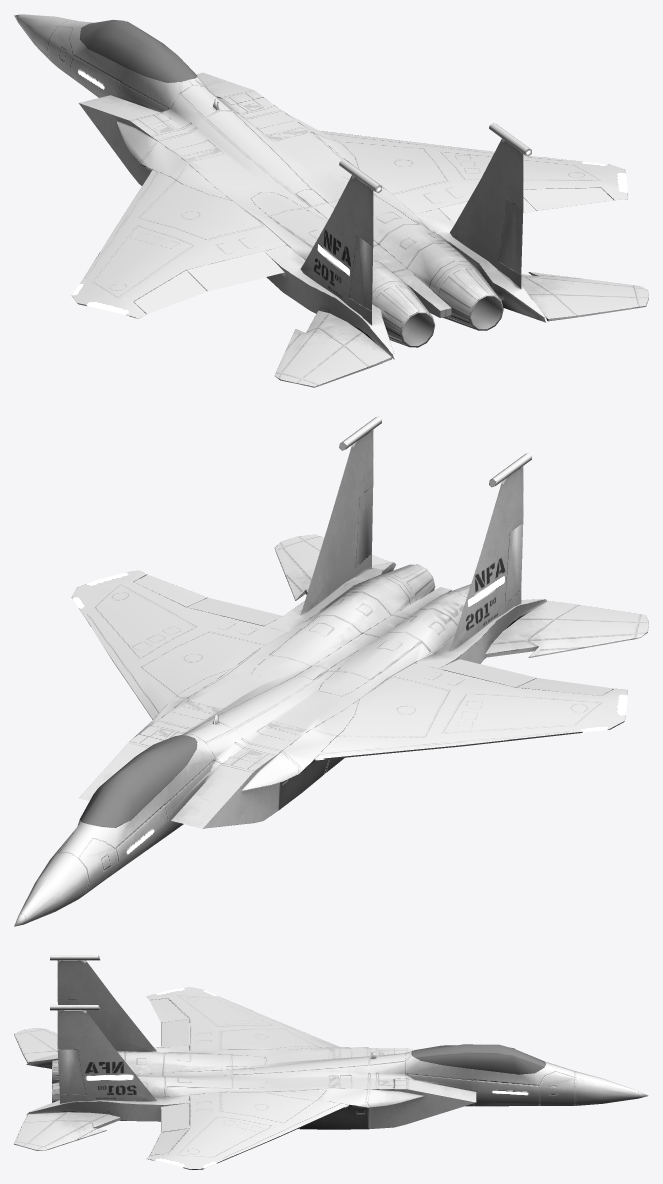
3 views of the same model, one above another, from view 1: azimuth 30°, elevation 25°; view 2: azimuth 150°, elevation 25°; view 3: azimuth 270°, elevation 25° (orthographic). The views are drawn at different scales.
Visible parts, largest first — view 1: Airframe; view 2: Airframe; view 3: Airframe.
Boxes of the visible parts, box(x1,y1,x2,y2) form: Airframe: box(14, 14, 648, 387); Airframe: box(14, 416, 648, 926); Airframe: box(14, 955, 648, 1169).
Size of the model in its own units: 14.08 by 4.74 by 20.76.
Materials: 1 (1 with a texture image).
